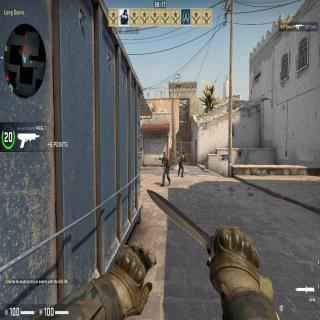T-Body: (160, 150, 171, 187), (178, 151, 185, 178)
T-Head: (162, 150, 166, 156), (182, 151, 184, 156)
